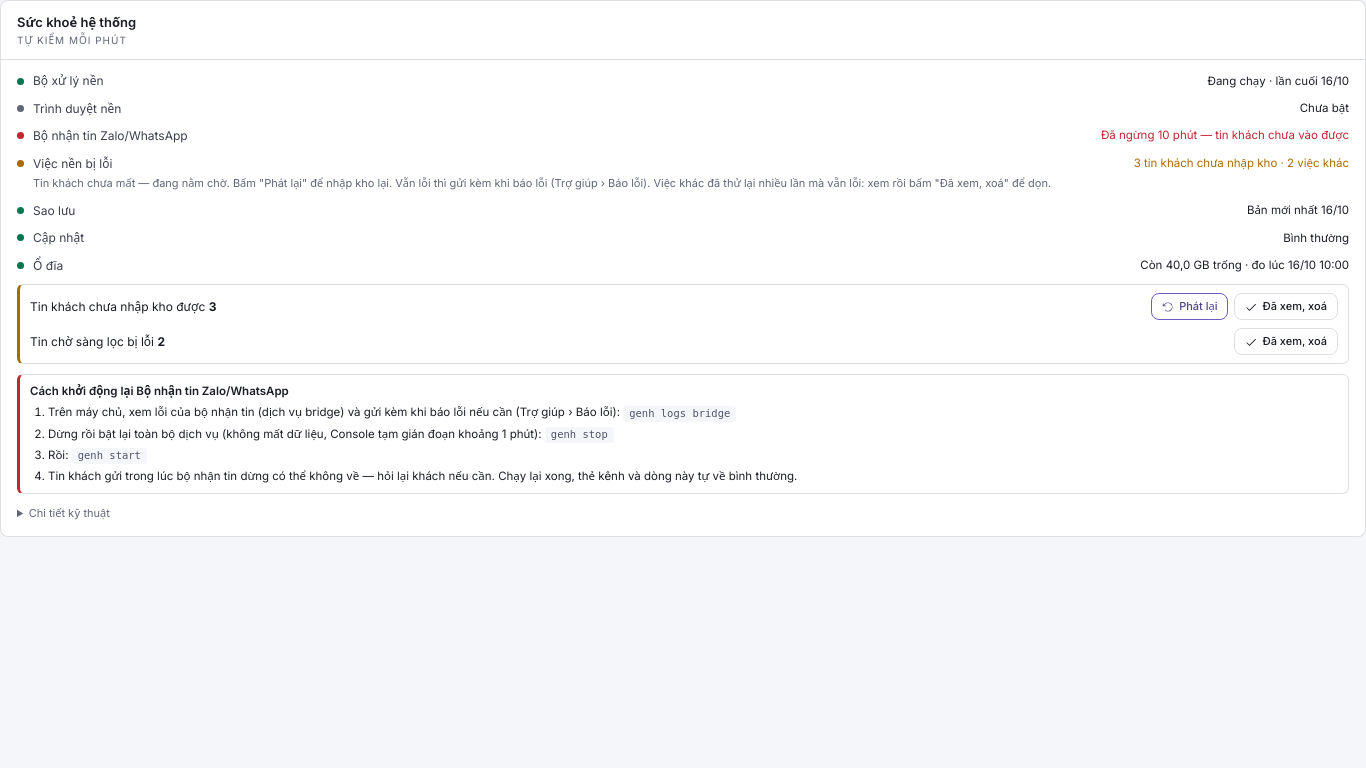
Scenario: <HealthCard> — hàng lỗi có lối xử lý › lỗi máy chủ ⇒ câu thân thiện (chuỗi, không object); người chỉ có system.read không thấy nút
The image size is (1366, 768).
Click the button "Phát lại".
click(1190, 306)  # box [1151,293,1228,320]
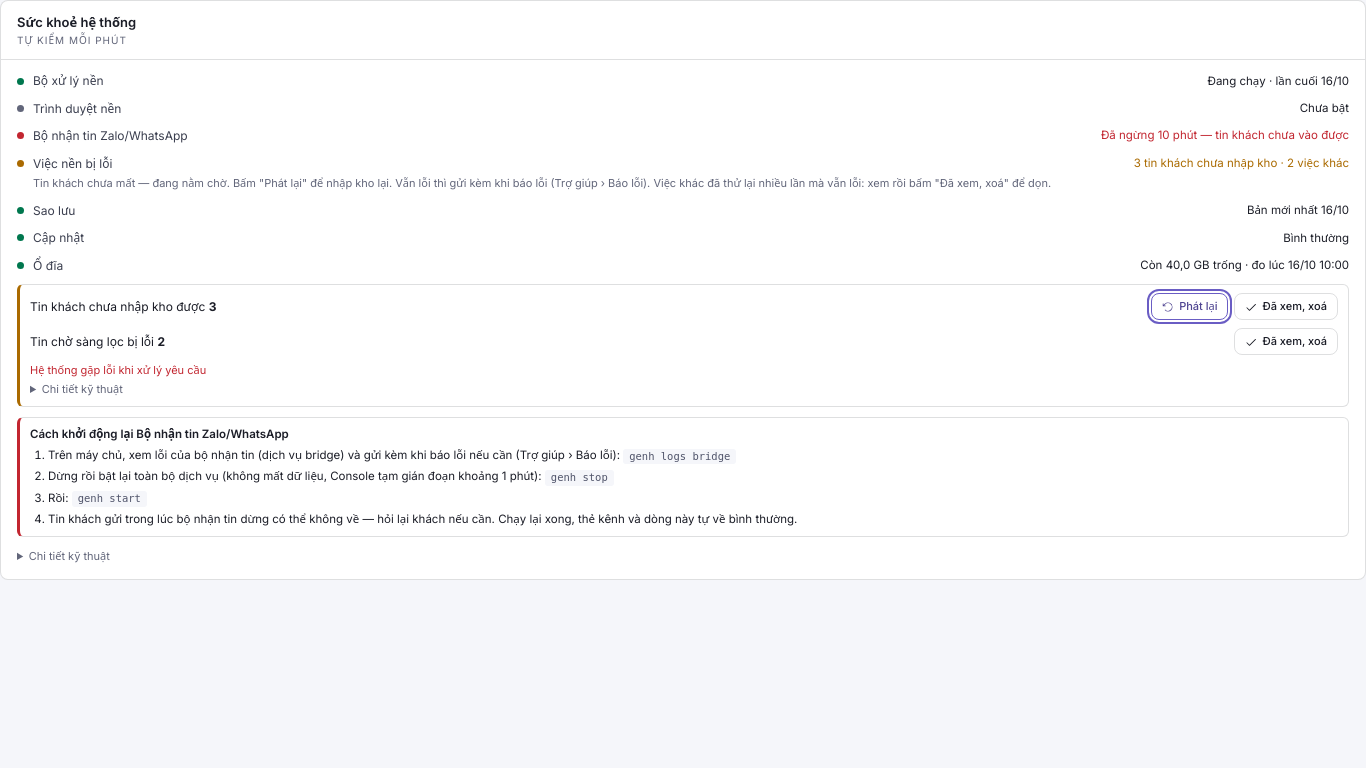
Expected: the message shows "Hệ thống gặp lỗi", [30,363,206,377]
Expected: the heading "Chi tiết kỹ thuật" below "Hệ thống gặp lỗi khi xử lý yêu cầu" is shown, [30,382,123,398]
